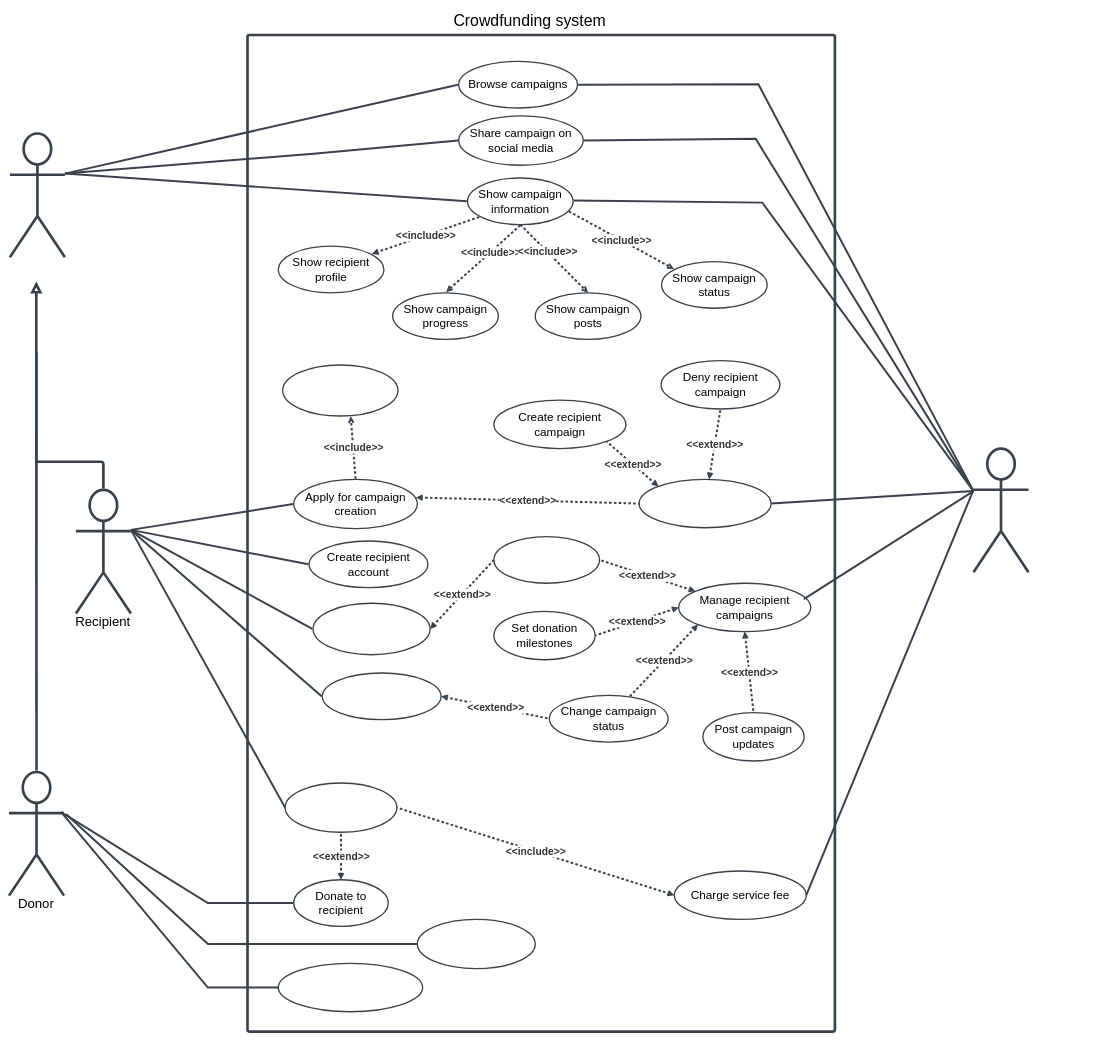
This 1109x1040 diagram has some shape labels left out. The box of each missing label's shape, as (x1, y1, x2, y2) in pixels:
Adjust campaign goals: (493, 536, 600, 584)
Comment on campaign posts: (416, 918, 536, 969)
End user: (8, 132, 66, 258)
Platform administrator: (972, 447, 1030, 573)
Receive donation from donors: (284, 782, 397, 833)
Request campaign end: (321, 672, 442, 720)
Request campaign goal adjustment: (312, 602, 431, 655)
Request independent review: (277, 962, 423, 1012)
Upload supporting documents: (282, 364, 398, 416)
Verify recipient campaign: (638, 478, 772, 528)
